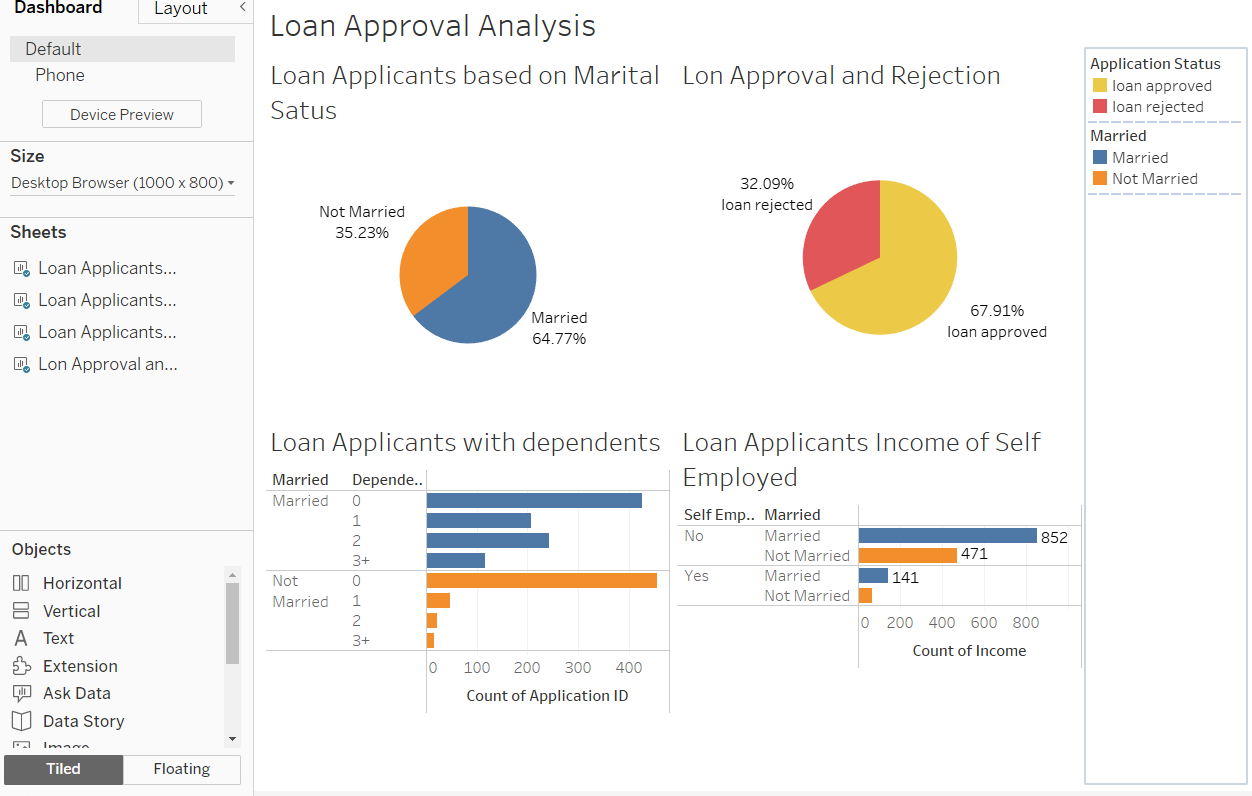

The dashboard page shown, as its layout file describes it:
{"tool":"tableau","page":{"name":"Loan Approval Analysis","canvas":[1000,800],"ordinal":0},"visuals":[{"type":"title","box":[8,8,984,50]},{"type":"worksheet","title":"Loan Applicants based on Marital Satus","mark":"Pie","box":[8,58,412,367]},{"type":"worksheet","title":"Lon Approval and Rejection","mark":"Pie","box":[420,58,412,367]},{"type":"legend","title":"Lon Approval and Rejection","param":"[federated.0umn9wi1b783jv12i4b6l1aoojmn].[none:Application_Status:nk]","box":[832,58,160,72]},{"type":"legend","title":"Loan Applicants Income of Self Employed","param":"[federated.0umn9wi1b783jv12i4b6l1aoojmn].[none:Married:nk]","box":[832,130,160,72]},{"type":"worksheet","title":"Loan Applicants with dependents","mark":"Automatic","rows":["Married","Dependents"],"cols":["Application_ID"],"box":[8,425,412,367]},{"type":"worksheet","title":"Loan Applicants Income of Self Employed","mark":"Automatic","rows":["Self_Employed","Married"],"cols":["Income"],"box":[420,425,412,367]}]}

Visuals, with their boxes in screenshot pixels (x1, y1, x2, y2):
title: box(21, 27, 986, 76)
"Loan Applicants based on Marital Satus" worksheet (Pie marks): box(21, 76, 425, 436)
"Lon Approval and Rejection" worksheet (Pie marks): box(425, 76, 829, 436)
"Lon Approval and Rejection" legend: box(829, 76, 986, 147)
"Loan Applicants Income of Self Employed" legend: box(829, 147, 986, 218)
"Loan Applicants with dependents" worksheet: box(21, 436, 425, 795)
"Loan Applicants Income of Self Employed" worksheet: box(425, 436, 829, 795)
